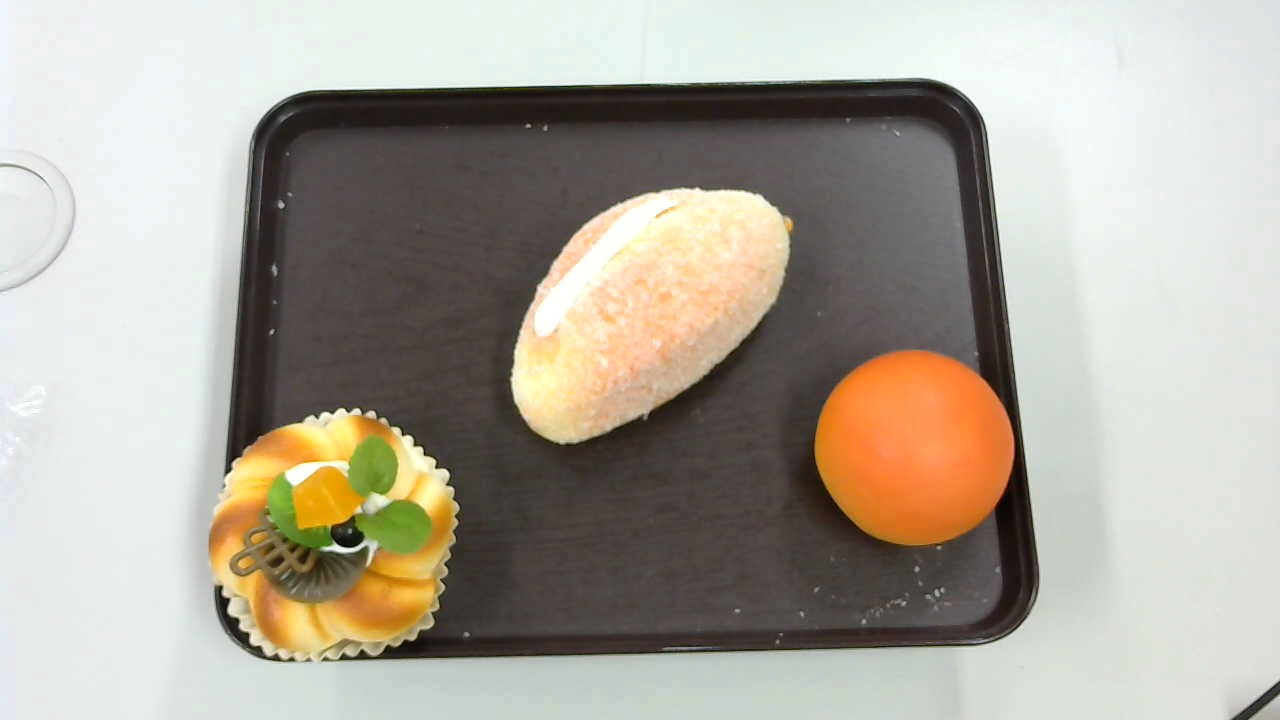bun: (813, 350, 1015, 548)
coconut: (509, 186, 795, 445)
fruit tart: (202, 405, 462, 669)
